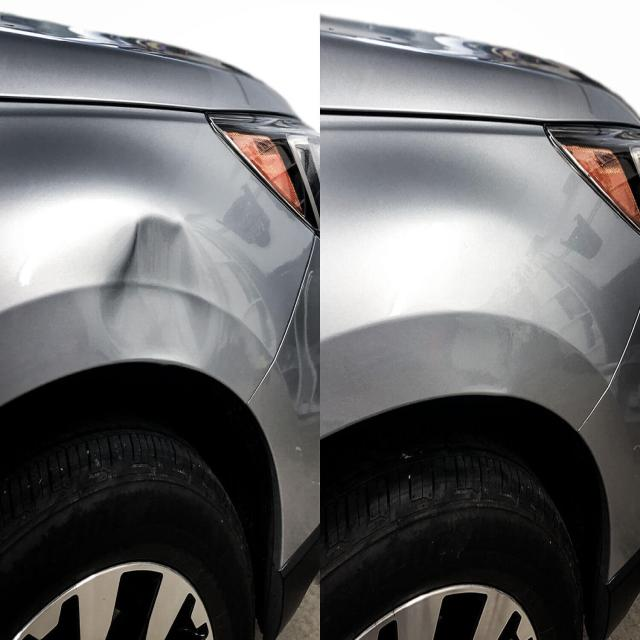dent: (95, 209, 218, 369)
